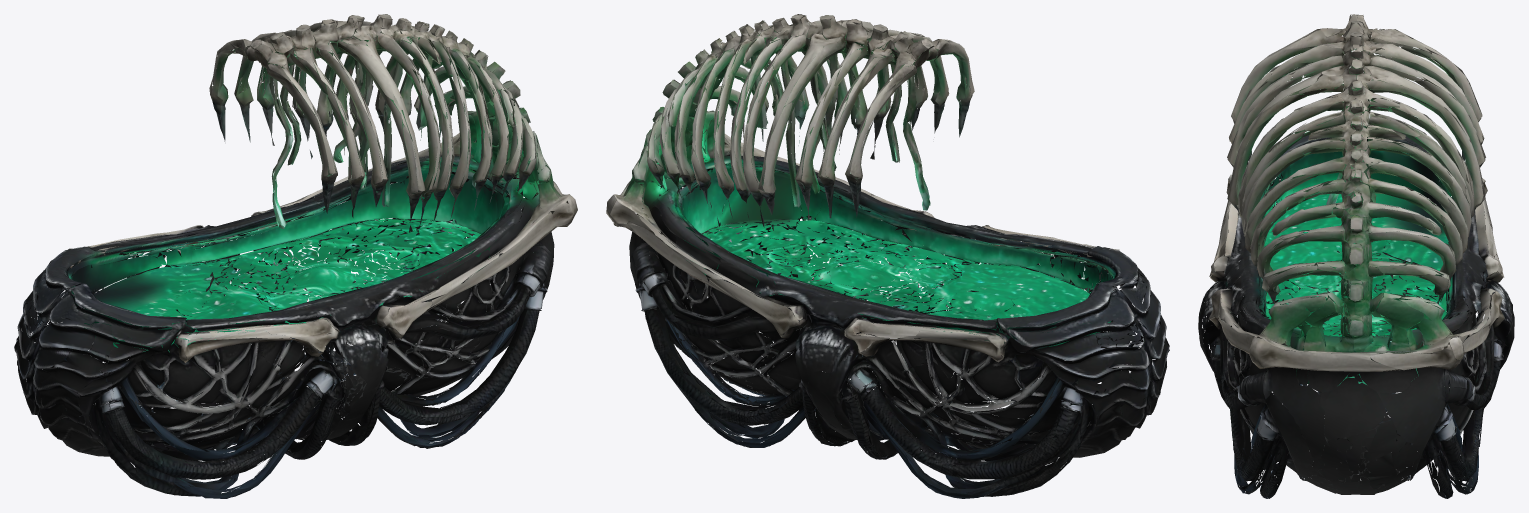
File: suture_flesh_mending_bath.glb
3 renders of one model, left to right at view 1: azimuth 30°, elevation 25°; view 2: azimuth 150°, elevation 25°; view 3: azimuth 270°, elevation 25°, orthographic. The views are drawn at different scales.
Visible parts, largest first — view 1: node_0; view 2: node_0; view 3: node_0.
Part boxes in pixels (<box>): node_0: <box>14,14,577,498</box>; node_0: <box>606,14,1169,498</box>; node_0: <box>1198,14,1514,498</box>.
Size of the model in its own units: 1.12 by 0.8356 by 0.5782.
1 material, 1 textured.
